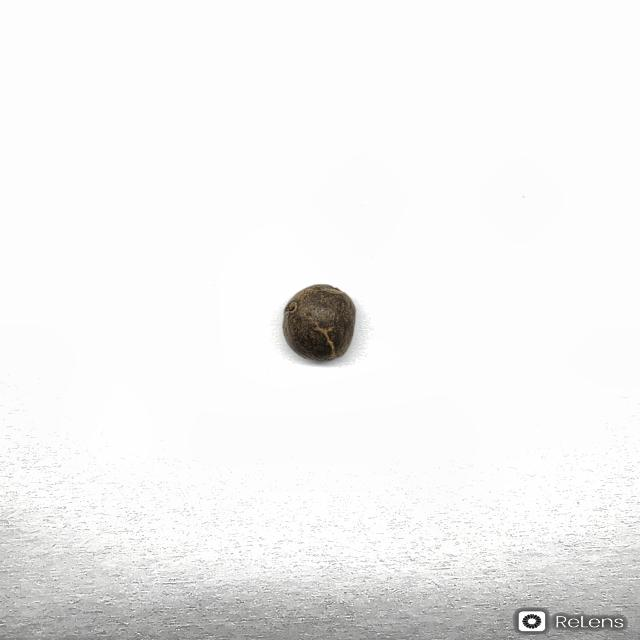Black: (280, 283, 357, 363)
